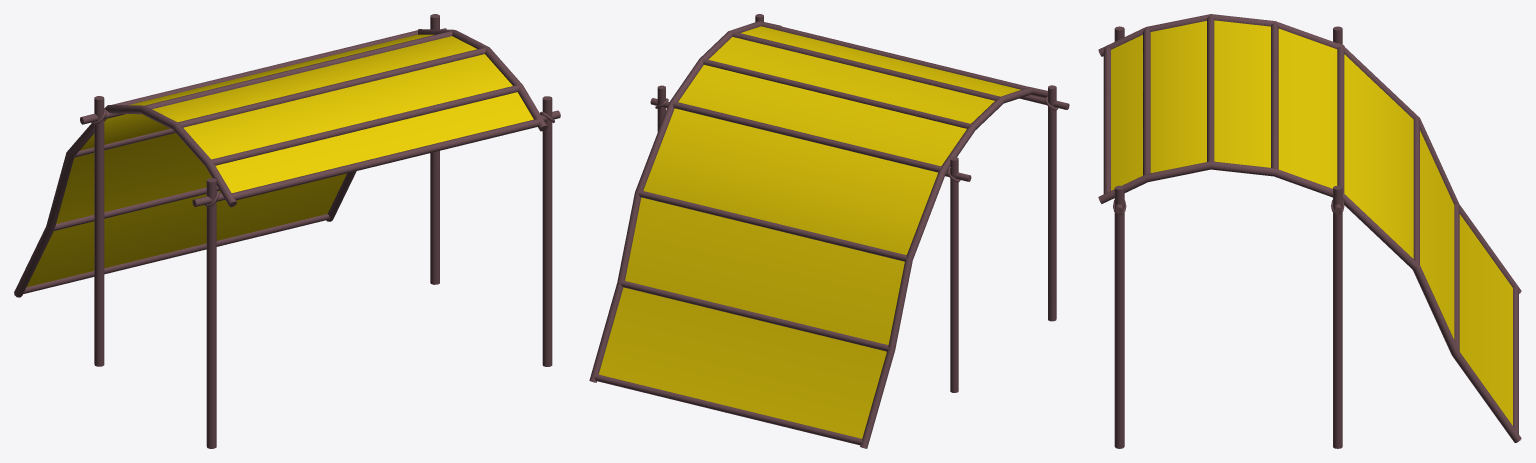
The model's file is market_tent_01.fbx.
3 renders of one model, left to right at view 1: azimuth 30°, elevation 25°; view 2: azimuth 150°, elevation 25°; view 3: azimuth 270°, elevation 25°, orthographic. The views are drawn at different scales.
Visible parts, largest first — view 1: market_tent_01; view 2: market_tent_01; view 3: market_tent_01.
Boxes of the visible parts, x1,y1,x2,y2 form: market_tent_01: [14, 14, 560, 448]; market_tent_01: [589, 14, 1069, 448]; market_tent_01: [1098, 14, 1521, 448].
Bounding box in the file's own units: 314 × 239 × 326.
